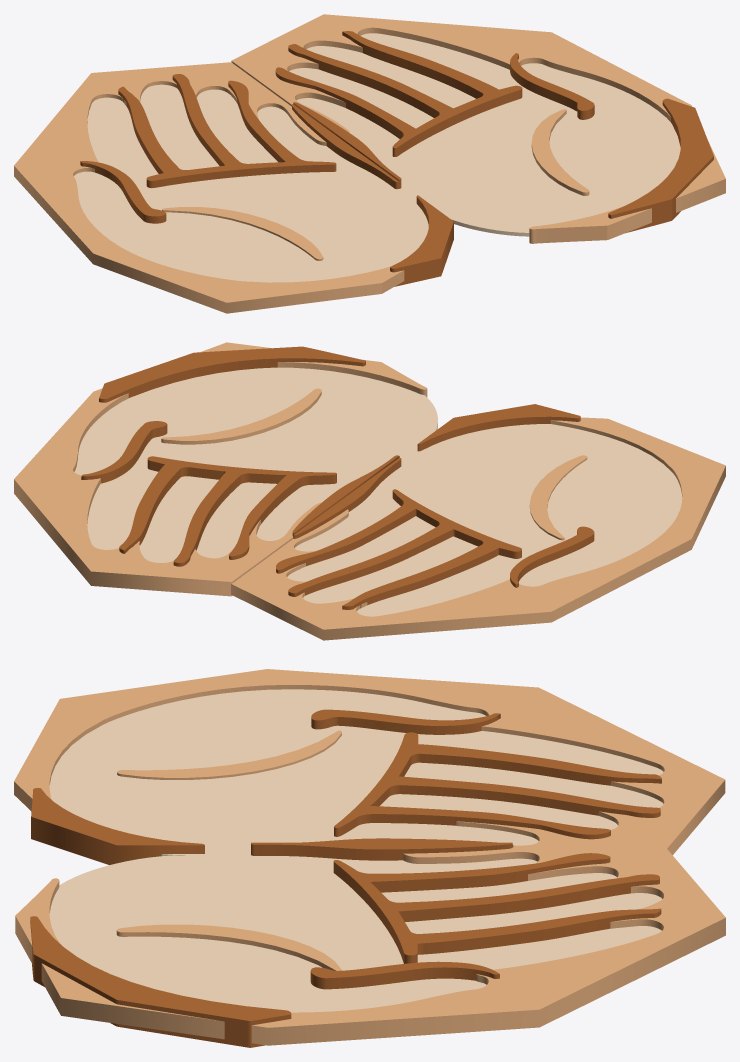
Rendered from emoji_u1f932_1f3fb.glb.
3 views of the same model, one above another, from view 1: azimuth 30°, elevation 25°; view 2: azimuth 150°, elevation 25°; view 3: azimuth 270°, elevation 25° (orthographic). The views are drawn at different scales.
Visible parts, largest first — view 1: emoji_u1f932_1f3fb; view 2: emoji_u1f932_1f3fb; view 3: emoji_u1f932_1f3fb.
Part boxes in pixels (bbox=[...]): emoji_u1f932_1f3fb: bbox=[14, 14, 725, 313]; emoji_u1f932_1f3fb: bbox=[14, 342, 725, 640]; emoji_u1f932_1f3fb: bbox=[14, 669, 725, 1047].
Bounding box in the file's own units: 0.0347 × 0.0012 × 0.0289.
